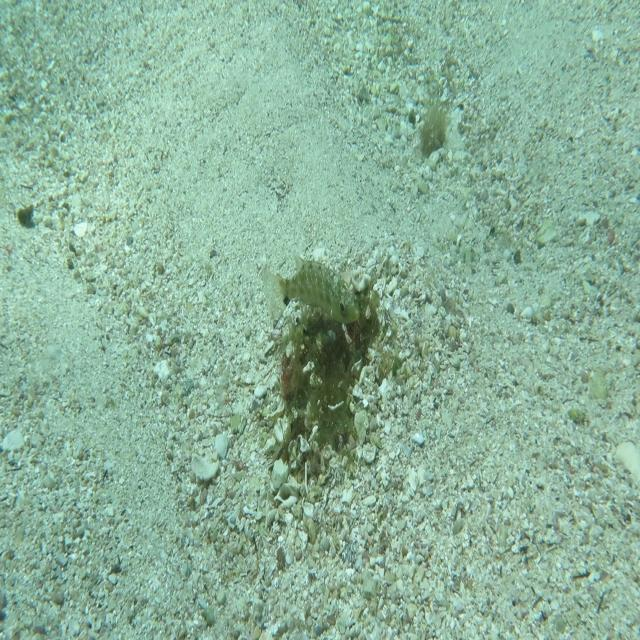MAN: (262, 251, 361, 324)
core_nest: (338, 290, 382, 332)
nest: (270, 272, 400, 480)
vegetation: (420, 99, 452, 162), (14, 202, 36, 228)
